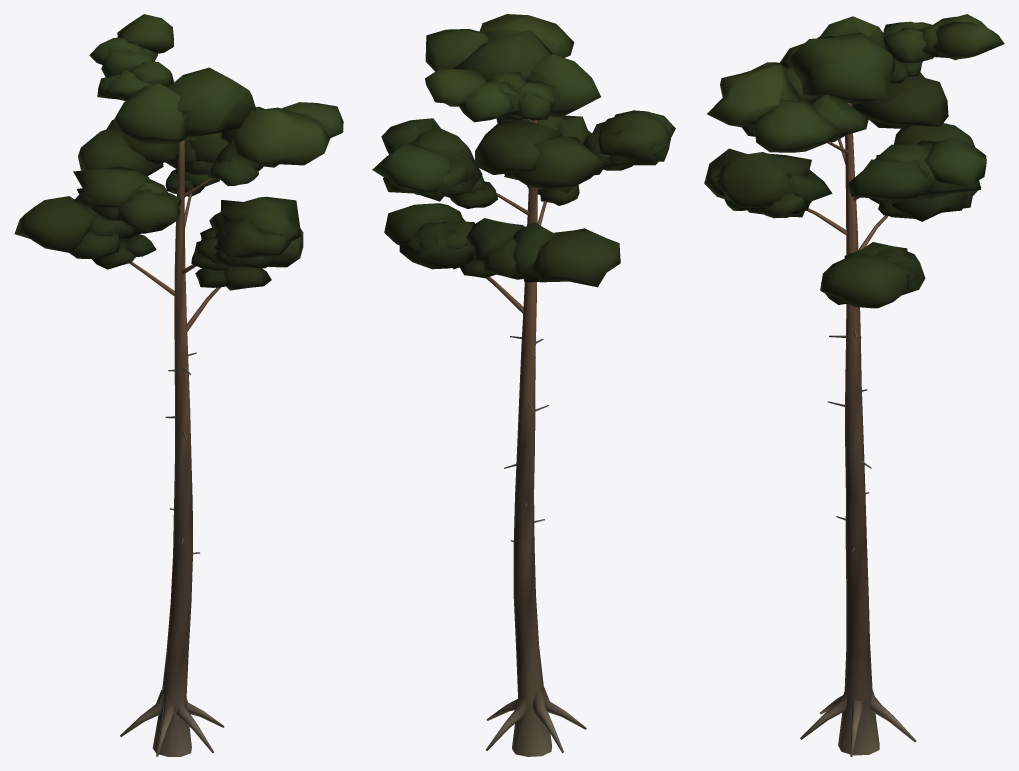
Rendered from pine_d.glb.
The picture shows the model from 3 angles, left to right: view 1: azimuth 30°, elevation 25°; view 2: azimuth 150°, elevation 25°; view 3: azimuth 270°, elevation 25°; orthographic projection. The views are drawn at different scales.
Parts seen in each view (by area): view 1: LOD0; view 2: LOD0; view 3: LOD0.
Boxes of the visible parts, box(x1,y1,x2,y2) form: LOD0: box(14, 14, 343, 756); LOD0: box(372, 14, 675, 756); LOD0: box(704, 14, 1004, 756).
Size of what is drawn, in the model's own units: 7.32 by 19.37 by 7.18.
